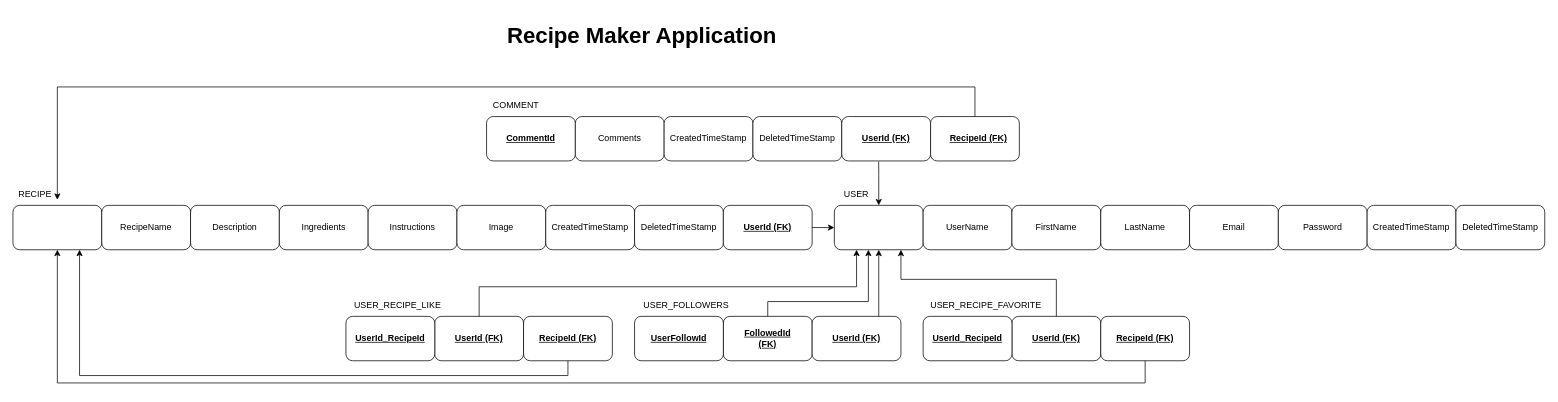
Some shapes in this 1558 by 402 pixel diagram are drawn without their labels. The shapes that lost their labels are listed below. From the top down, each one's box as (x1, y1, x2, y2) in pixels, then its label:
(12, 205, 102, 250): RecipeId
(834, 205, 923, 250): UserId
